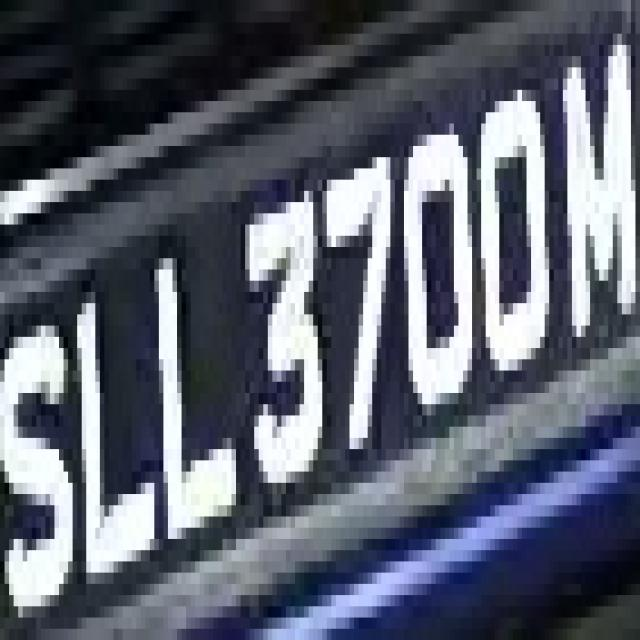0: (468, 56, 554, 404), (400, 90, 481, 415)
3: (227, 168, 327, 483)
7: (313, 124, 395, 494)
L: (68, 224, 154, 606), (150, 236, 236, 584)
M: (549, 22, 640, 382)
S: (0, 258, 77, 606)
